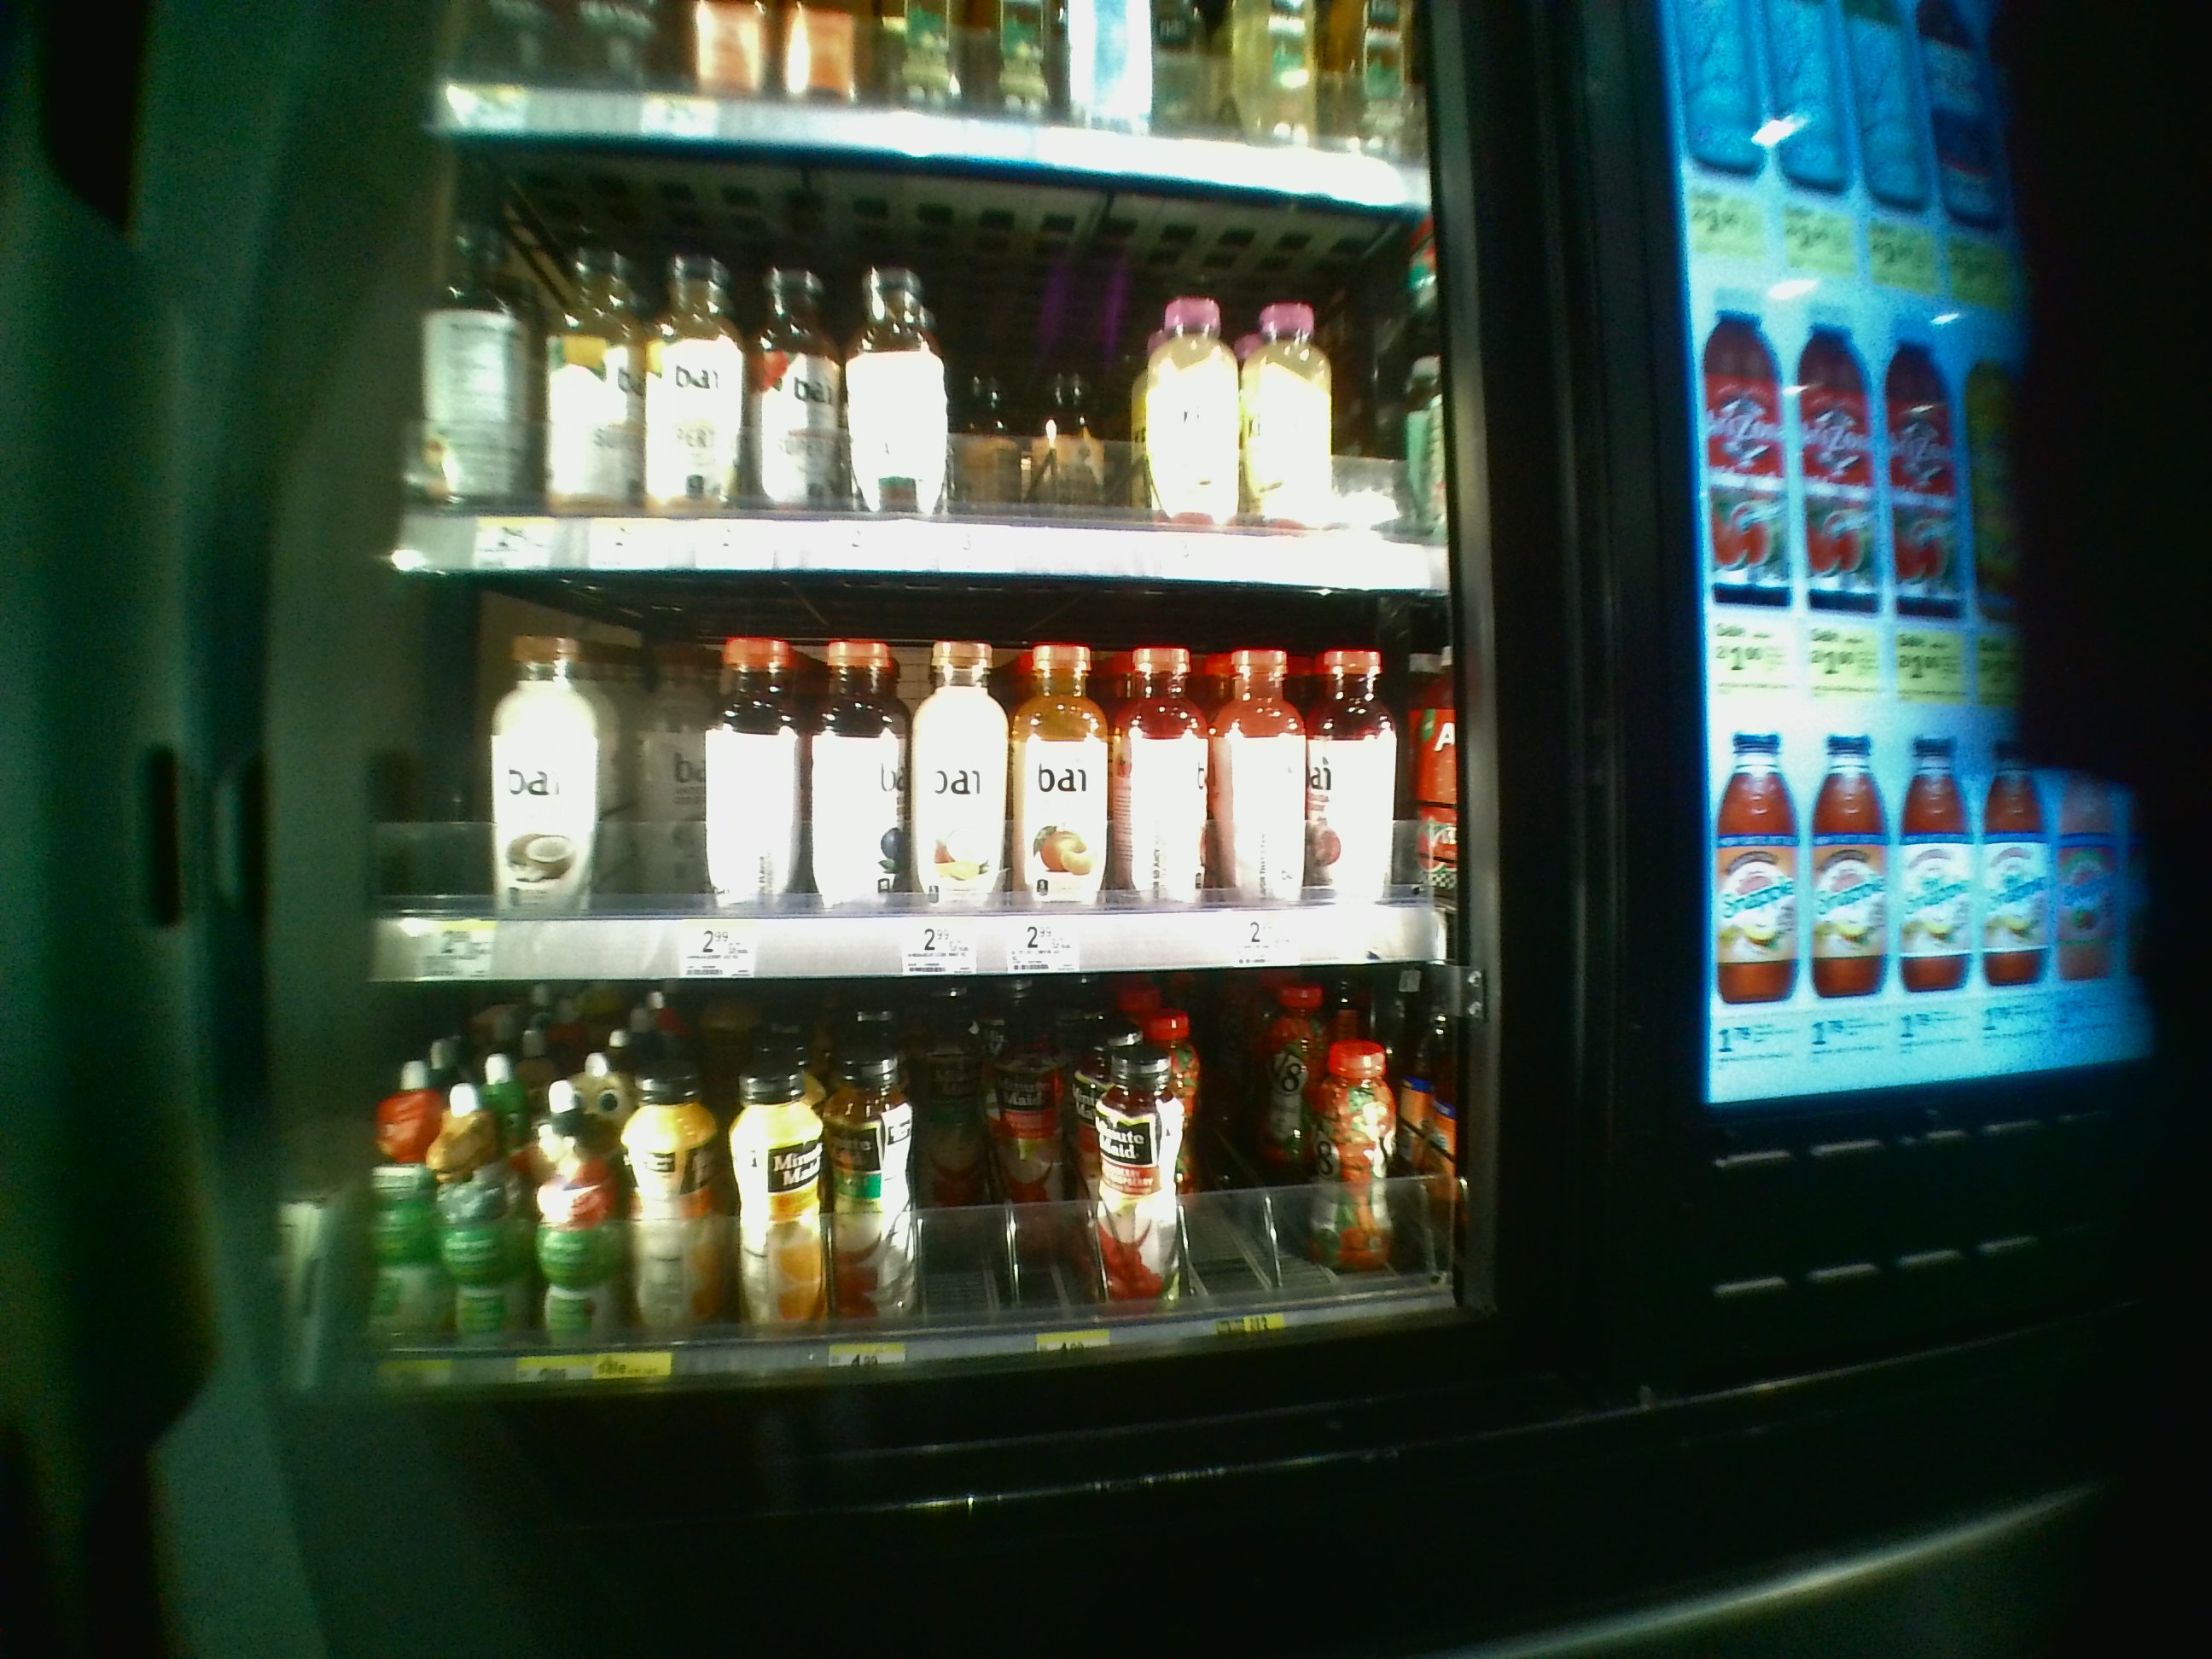shelf: (395, 134, 1453, 573), (376, 568, 1463, 983), (369, 993, 1479, 1389)
